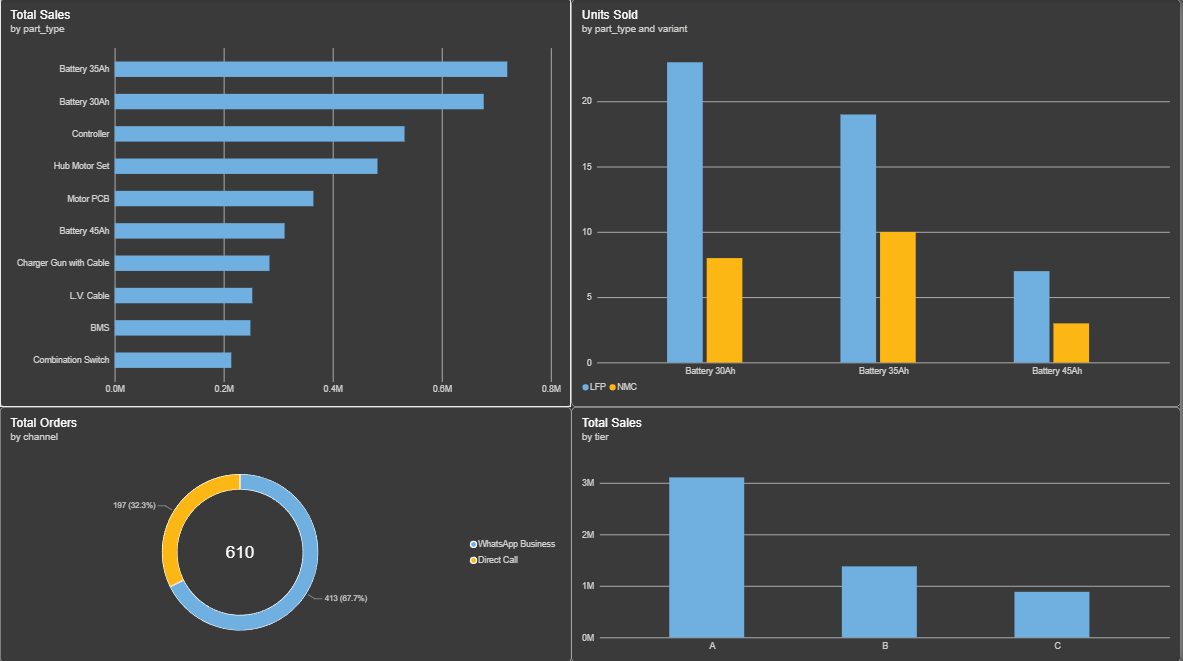

Layout of this report page (visuals, bound fields, positions):
{"tool":"powerbi","page":{"name":"Parts & Shops","canvas":[1920,1080],"ordinal":1},"visuals":[{"type":"clusteredBarChart","fields":{"Category":["parts.part_type"],"Y":["order_items.Total Sales"]},"box":[0,0,929.6,663.6],"z":0},{"type":"clusteredColumnChart","fields":{"Category":["parts.part_type"],"Series":["parts.variant"],"Y":["order_items.Units Sold"]},"box":[929.6,0,990.6,663.6],"z":1000},{"type":"donutChart","fields":{"Category":["orders.channel"],"Y":["order_items.Total Orders"]},"box":[0,663.6,929.6,417.2],"z":2000},{"type":"clusteredColumnChart","fields":{"Category":["customers.tier"],"Y":["order_items.Total Sales"]},"box":[929.6,663.6,990.6,417.2],"z":3000}]}

Visuals, with their boxes in screenshot pixels (x1, y1, x2, y2), scaled from the page's 1920x1080 canvas onto the 1183x661 screenshot:
clusteredBarChart - parts.part_type x order_items.Total Sales: 0:0:573:406
clusteredColumnChart - parts.part_type x parts.variant: 573:0:1182:406
donutChart - orders.channel x order_items.Total Orders: 0:406:573:660
clusteredColumnChart - customers.tier x order_items.Total Sales: 573:406:1182:660
